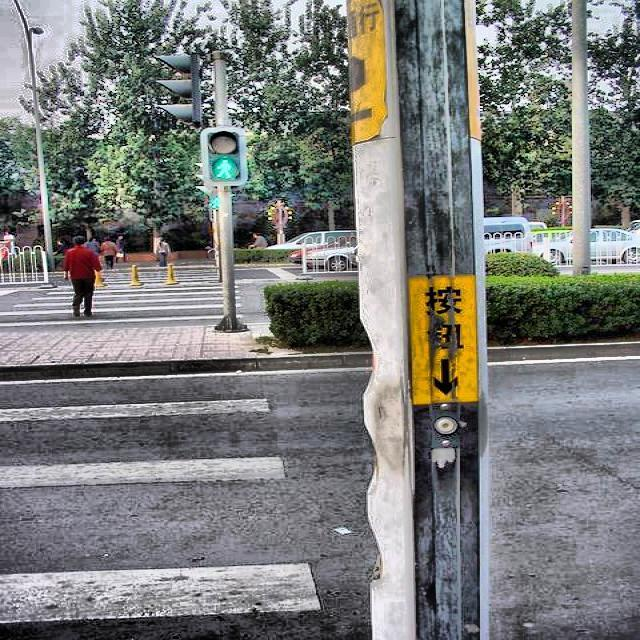green_light: (211, 154, 233, 180)
